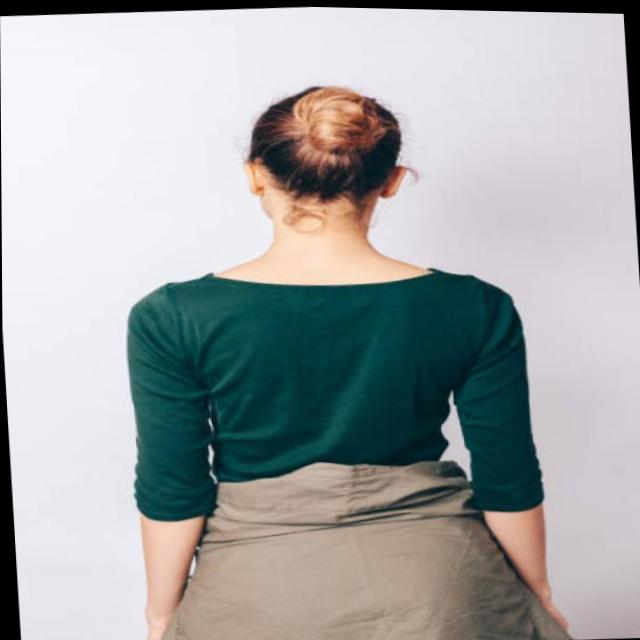no helmet: (204, 48, 436, 300)
